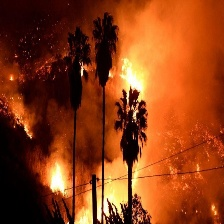fire: (120, 60, 152, 118), (13, 103, 46, 145), (48, 164, 72, 199), (94, 189, 118, 220), (188, 159, 208, 186), (69, 209, 92, 222), (131, 167, 142, 192), (77, 57, 87, 78), (212, 199, 220, 218), (6, 73, 16, 84)
smoke: (117, 3, 224, 109)
